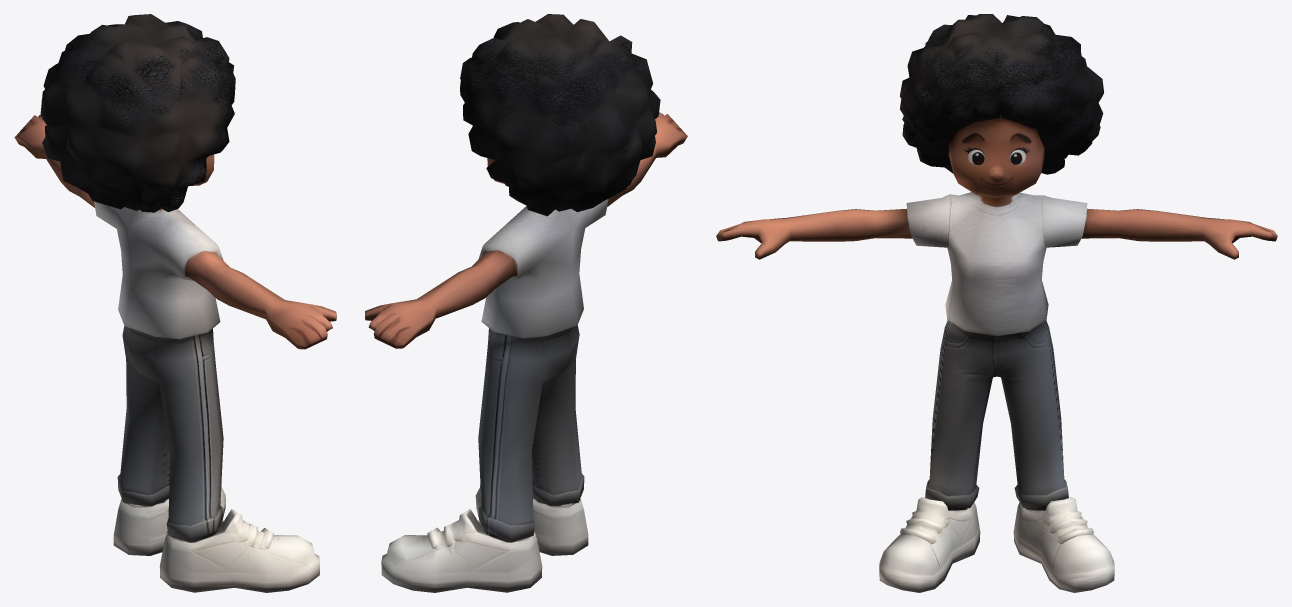
The picture shows the model from 3 angles, left to right: view 1: azimuth 30°, elevation 25°; view 2: azimuth 150°, elevation 25°; view 3: azimuth 270°, elevation 25°; orthographic projection. The views are drawn at different scales.
Parts seen in each view (by area): view 1: tripo_node_4e4893ee-1215-48b8-83be-5ea877037b64; view 2: tripo_node_4e4893ee-1215-48b8-83be-5ea877037b64; view 3: tripo_node_4e4893ee-1215-48b8-83be-5ea877037b64.
Boxes of the visible parts, left/top/right/bottom form: tripo_node_4e4893ee-1215-48b8-83be-5ea877037b64: left=14, top=14, right=336, bottom=592; tripo_node_4e4893ee-1215-48b8-83be-5ea877037b64: left=365, top=14, right=687, bottom=592; tripo_node_4e4893ee-1215-48b8-83be-5ea877037b64: left=716, top=14, right=1277, bottom=592.
Bounding box in the file's own units: 0.4146 × 0.9995 × 0.9917.
1 material, 1 textured.
